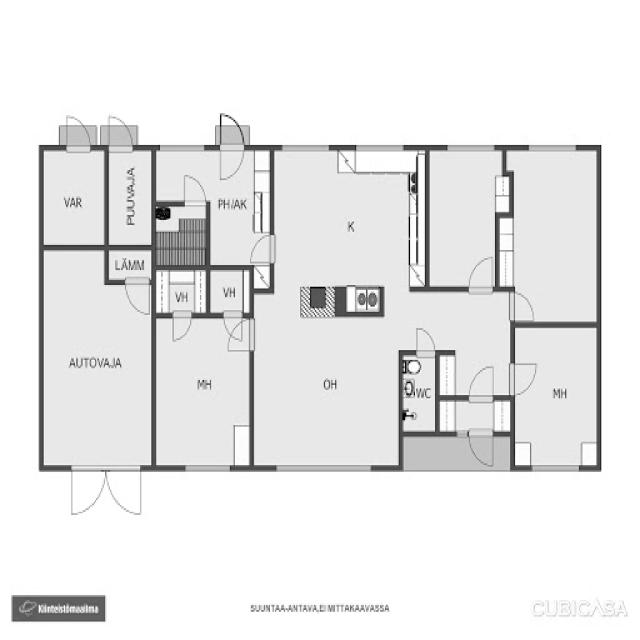door: (66, 457, 144, 514), (211, 112, 243, 181), (464, 355, 498, 403), (60, 108, 93, 152), (105, 110, 134, 158), (463, 250, 494, 294), (122, 274, 154, 316), (508, 360, 539, 398), (508, 284, 536, 324), (464, 428, 494, 465), (223, 322, 256, 353), (409, 321, 437, 355), (220, 306, 243, 338), (170, 305, 190, 340)
window: (274, 457, 374, 479), (520, 137, 582, 156), (441, 142, 501, 160), (352, 138, 410, 156), (182, 460, 235, 478), (527, 460, 583, 474), (274, 140, 330, 154)
zone: (253, 296, 402, 468), (38, 248, 152, 470), (269, 142, 424, 289), (502, 144, 599, 321), (155, 314, 249, 469), (509, 322, 598, 465), (426, 145, 499, 287), (206, 147, 270, 267), (42, 148, 109, 245), (107, 144, 153, 248), (151, 204, 206, 262), (150, 264, 206, 314), (208, 264, 249, 314), (105, 250, 152, 284)
